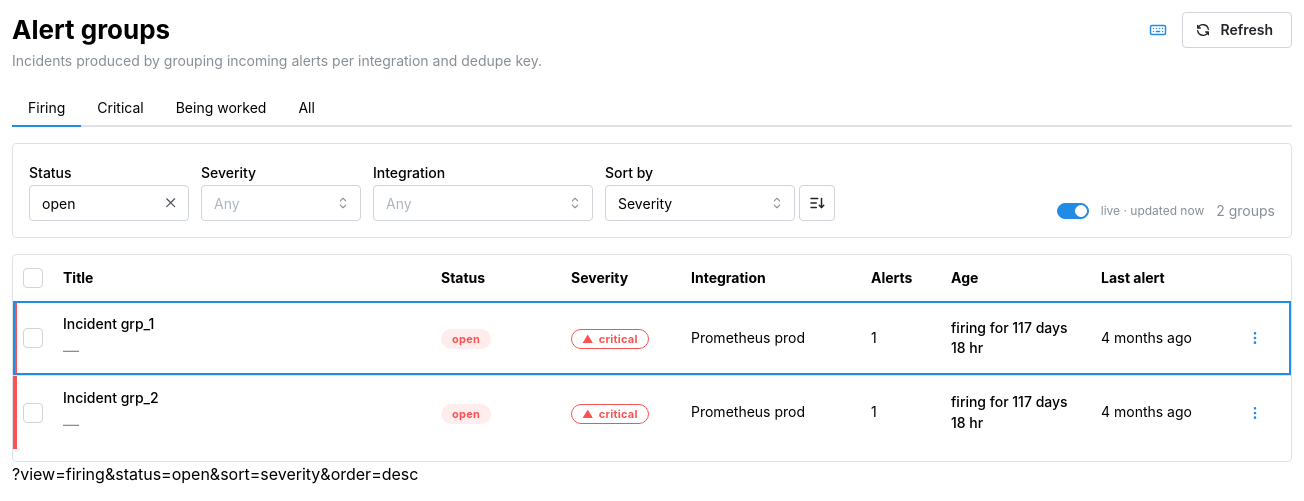
Test: AlertGroupsPage › puts the chosen filter in the address bar
expect the link "Incident grp_1" is shown: met, box [63,315,154,332]
Click the field labelled "Status" at point(109, 203), box [29,185,189,221]
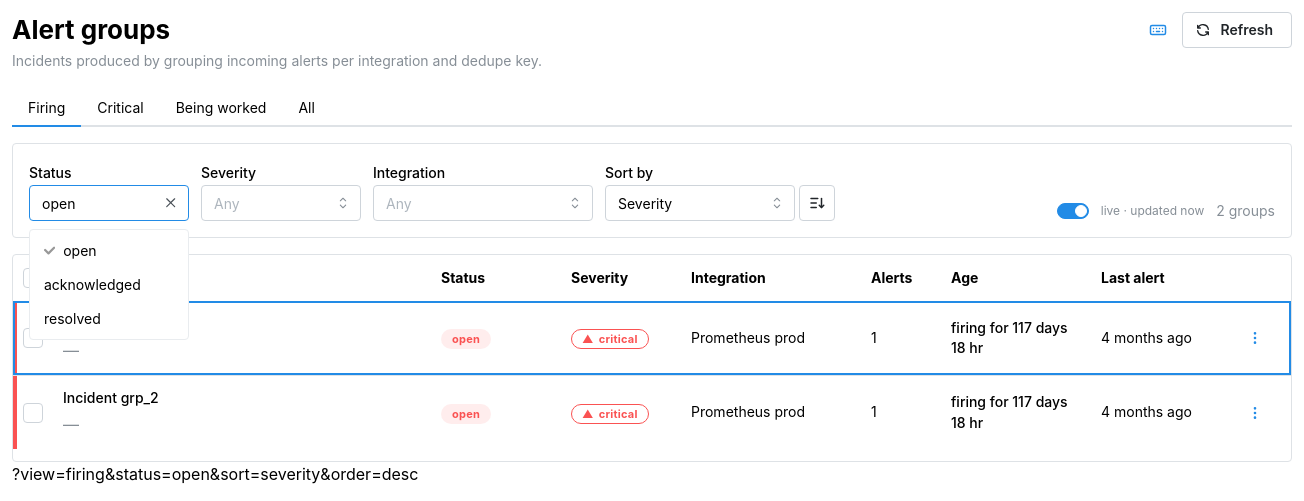
Click the option "acknowledged" at point(92, 284), box [44,276,141,293]
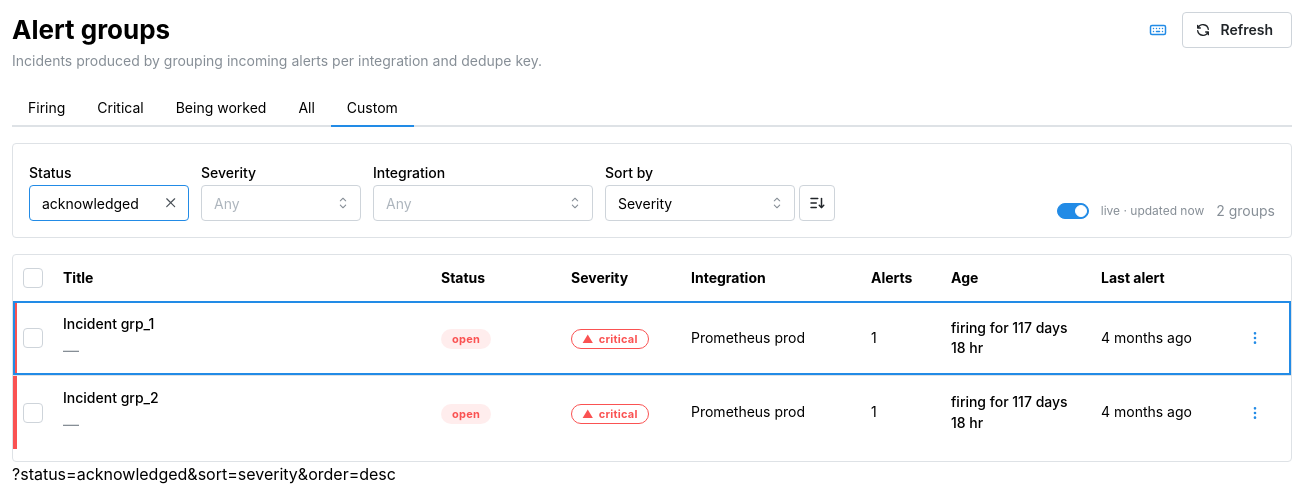
expect the text with test id "search" shows "status=acknowledged": met, box [12,464,396,484]
